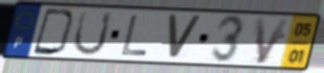3: (208, 12, 247, 67)
D: (30, 6, 78, 57)
L: (119, 13, 150, 57)
U: (70, 10, 115, 58)
V: (252, 17, 292, 66), (166, 12, 205, 62)
